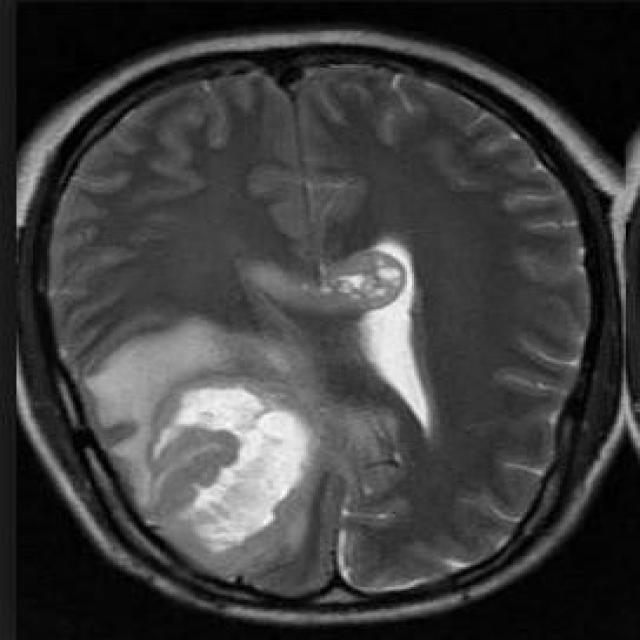Tumor-Cell: (126, 348, 322, 544)
